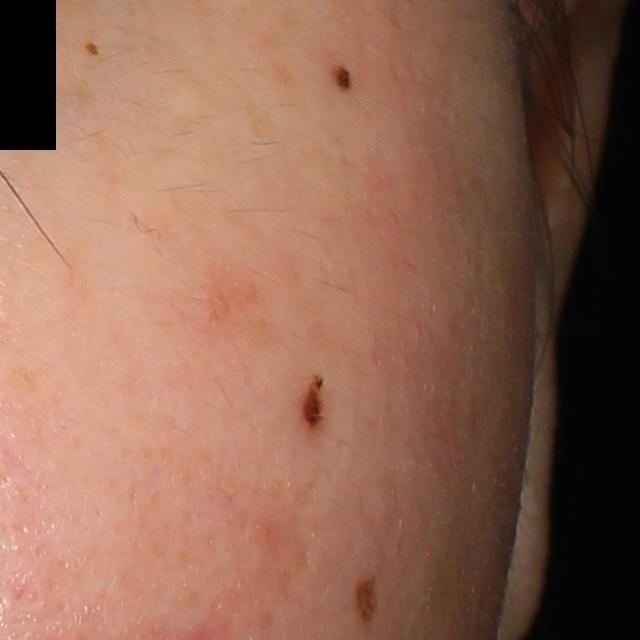nevus: (300, 370, 326, 431), (354, 575, 378, 624), (330, 59, 355, 91), (83, 40, 101, 57)
